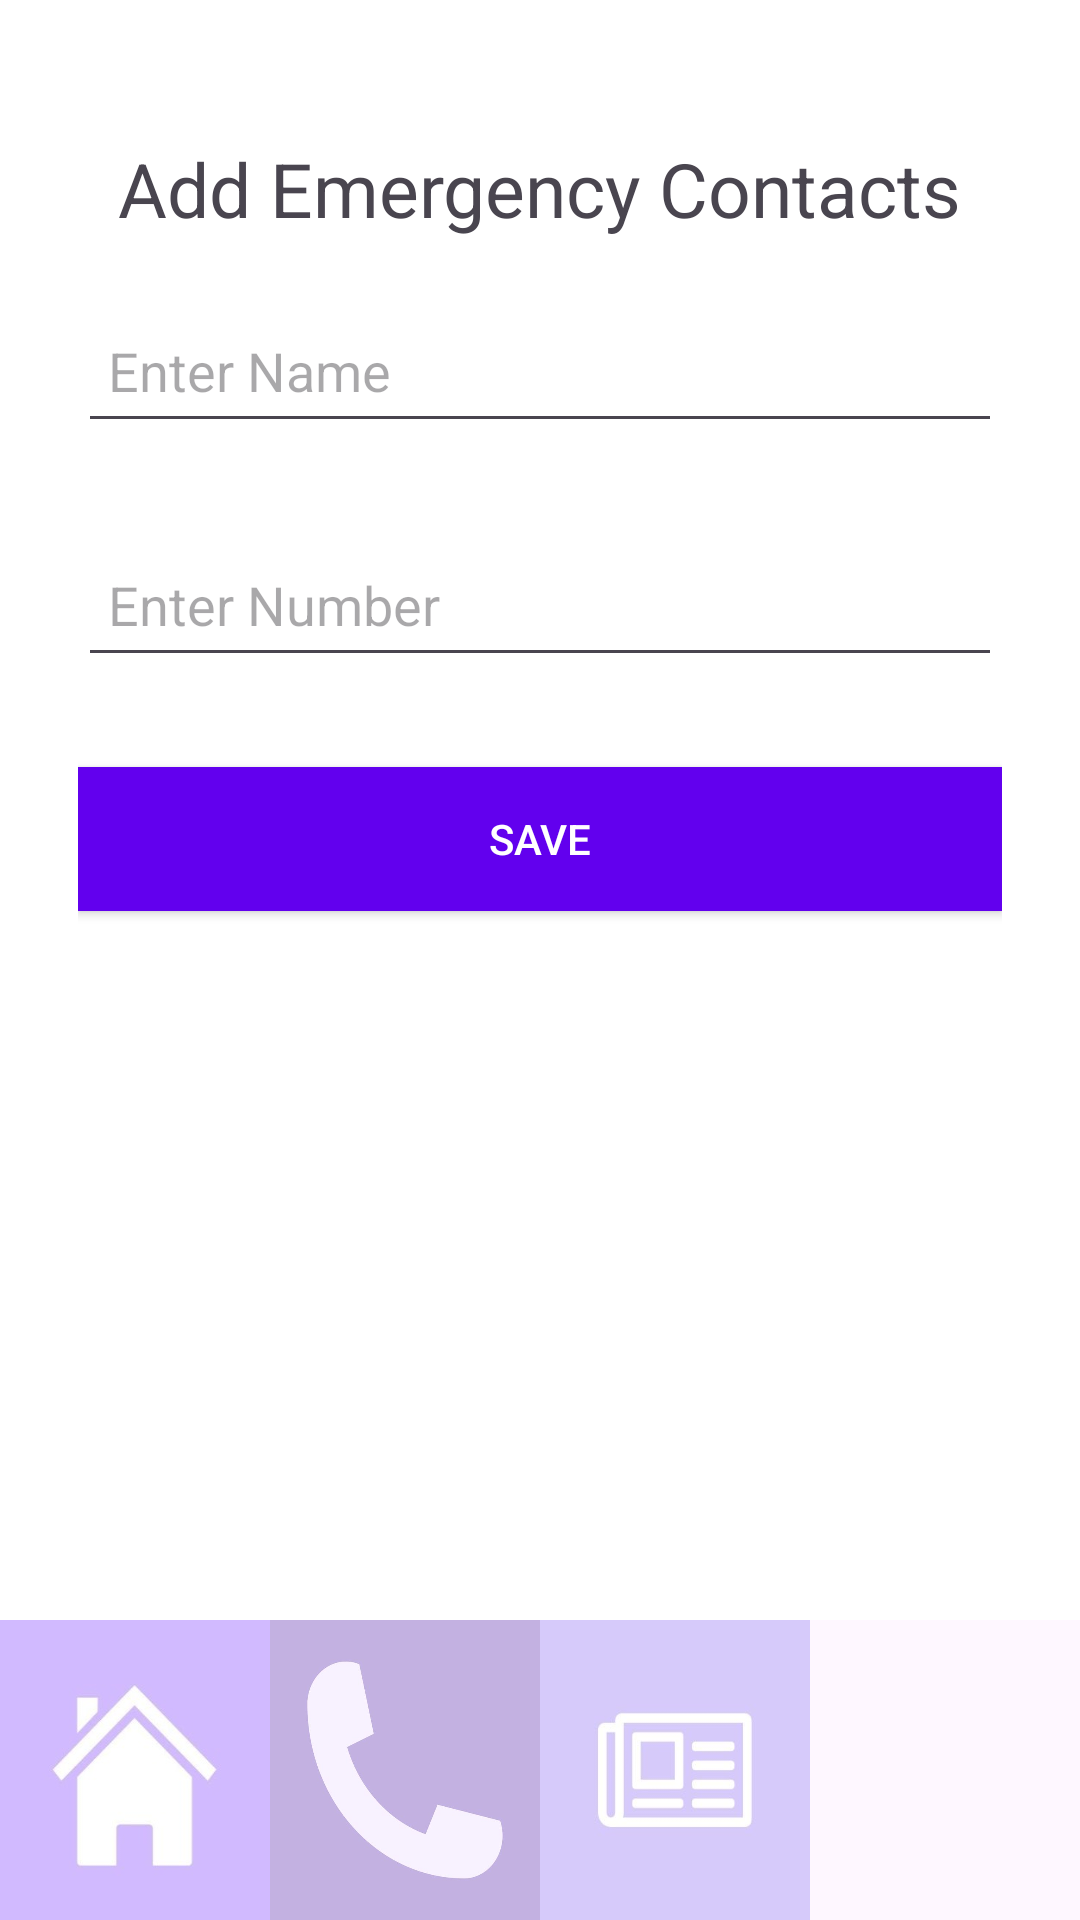

Icons on this 1080 × 1920 Android screen, each with the point to tap as point (x, y):
call: point (405, 1770)
